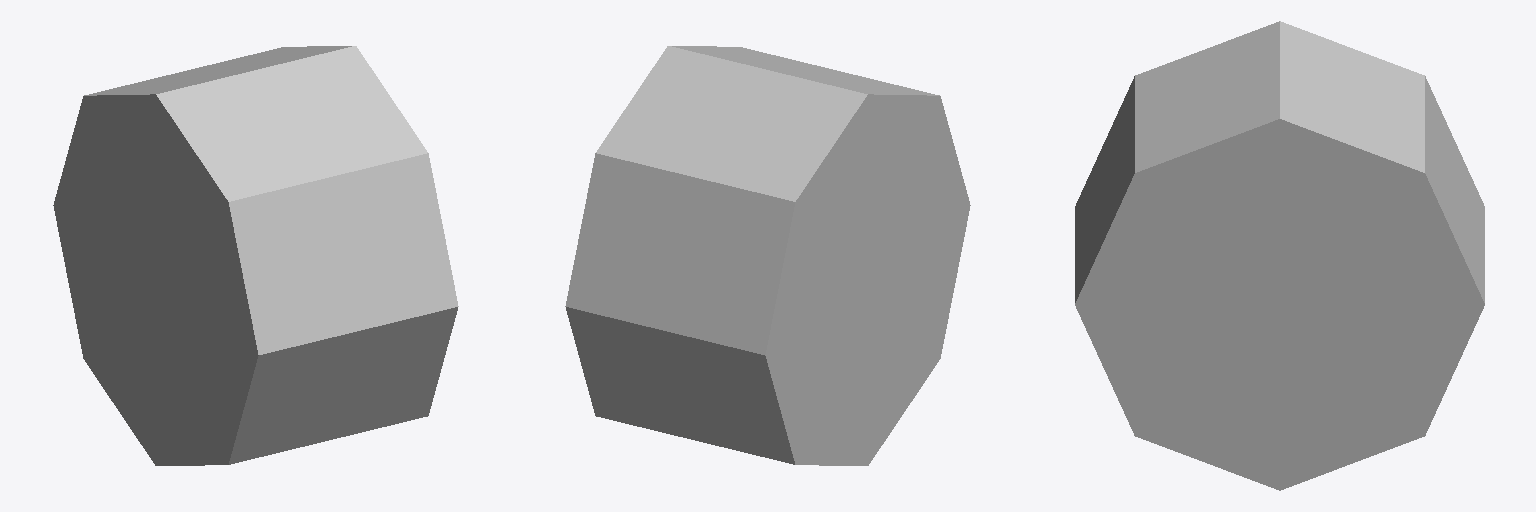
The model's file is WheelRearL.obj.
The picture shows the model from 3 angles: view 1: azimuth 30°, elevation 25°; view 2: azimuth 150°, elevation 25°; view 3: azimuth 270°, elevation 25°; orthographic projection.
Visible parts, largest first — view 1: WheelRearL; view 2: WheelRearL; view 3: WheelRearL.
Boxes of the visible parts, x1,y1,x2,y2 form: WheelRearL: [53, 46, 458, 465]; WheelRearL: [565, 46, 970, 465]; WheelRearL: [1075, 21, 1484, 490].
Size of the model in its own units: 0.9048 by 1.61 by 1.61.